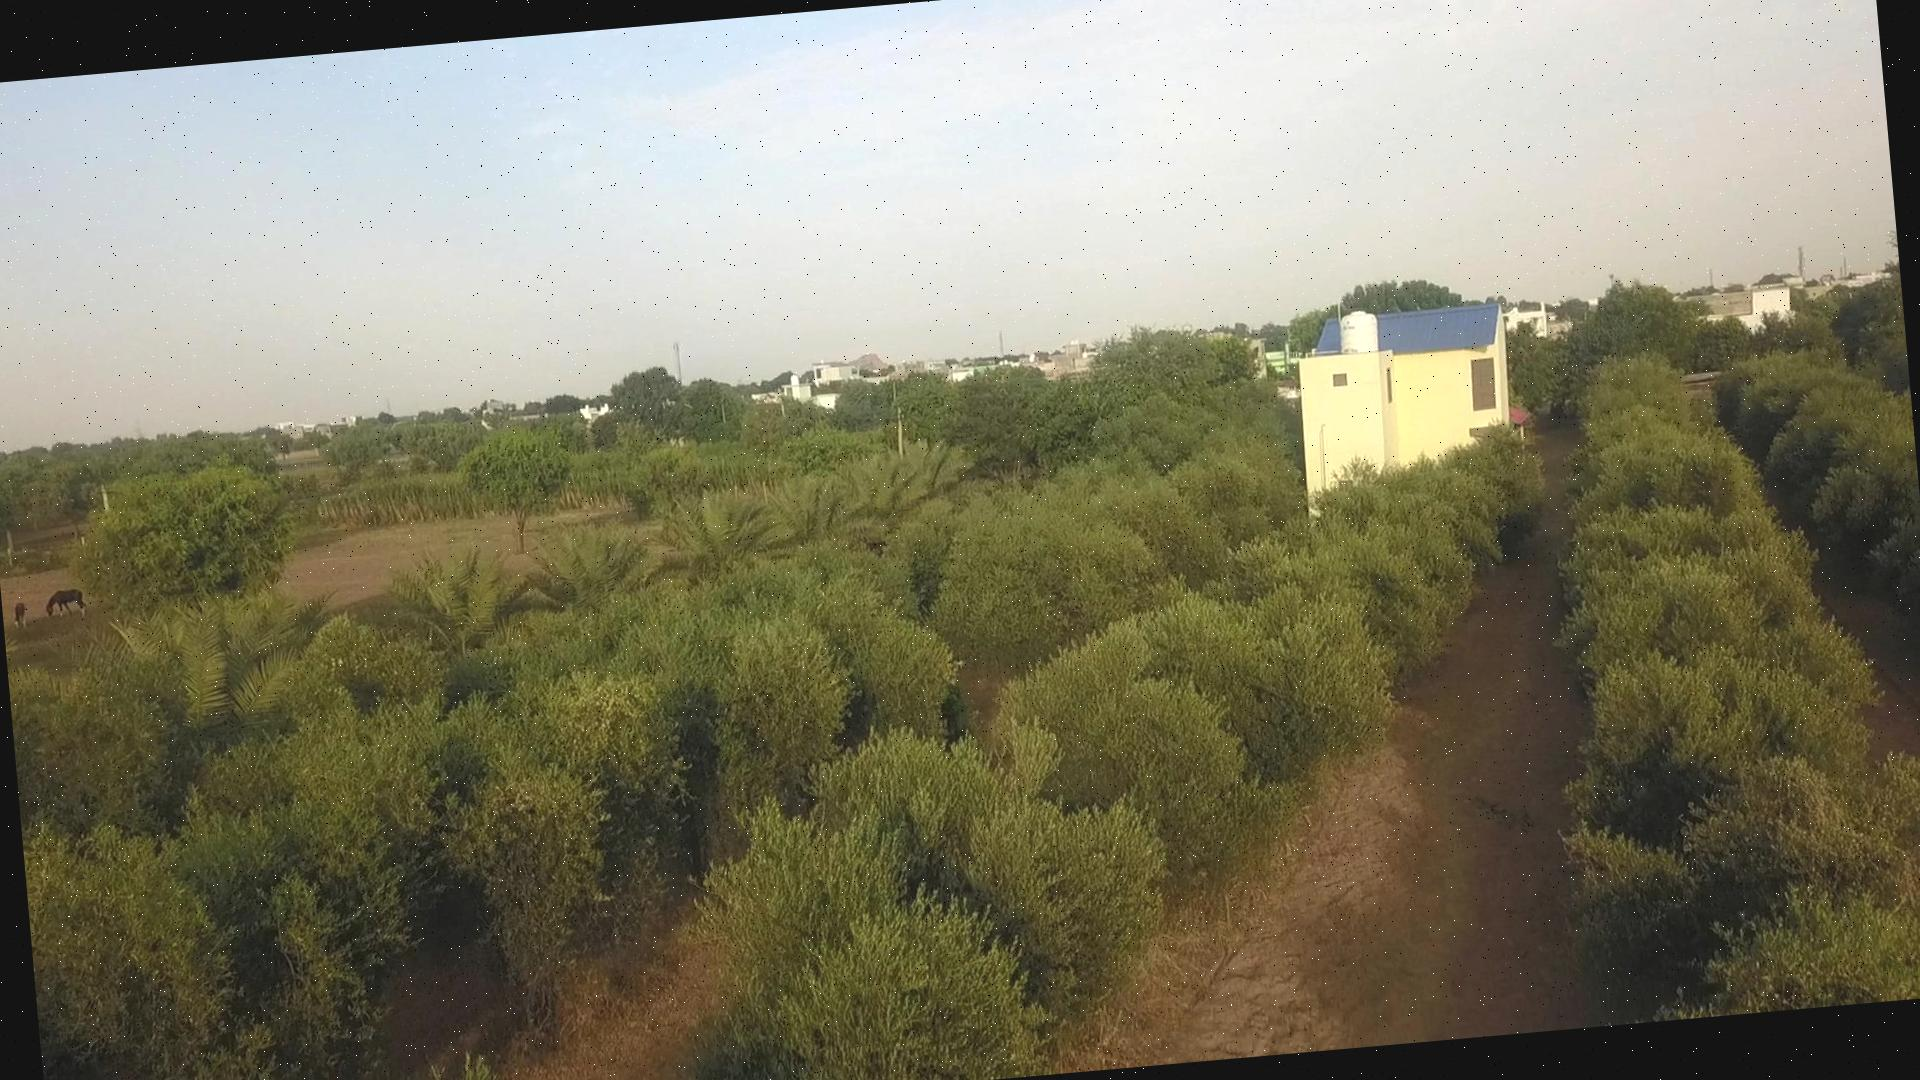canopy: (21, 459, 1303, 1080), (713, 440, 1543, 1080), (1559, 359, 1920, 1014), (1724, 355, 1920, 566)
road: (1060, 422, 1613, 1072), (505, 932, 723, 1080), (1816, 567, 1920, 756)
